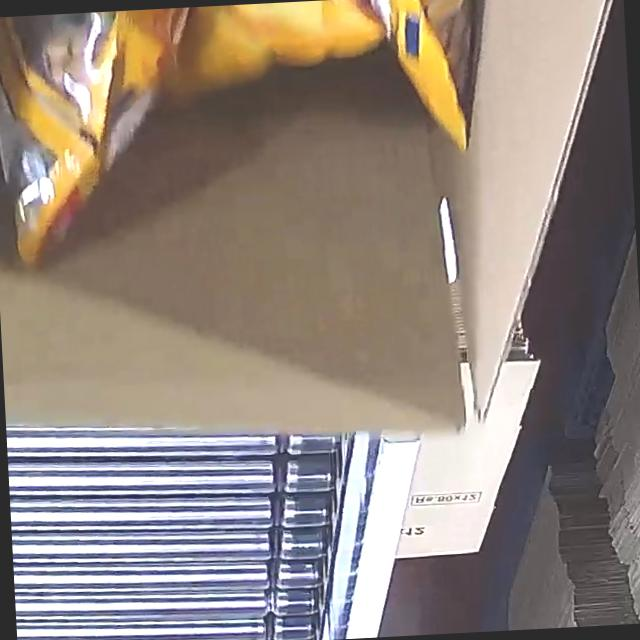cheese: (0, 0, 540, 289)
